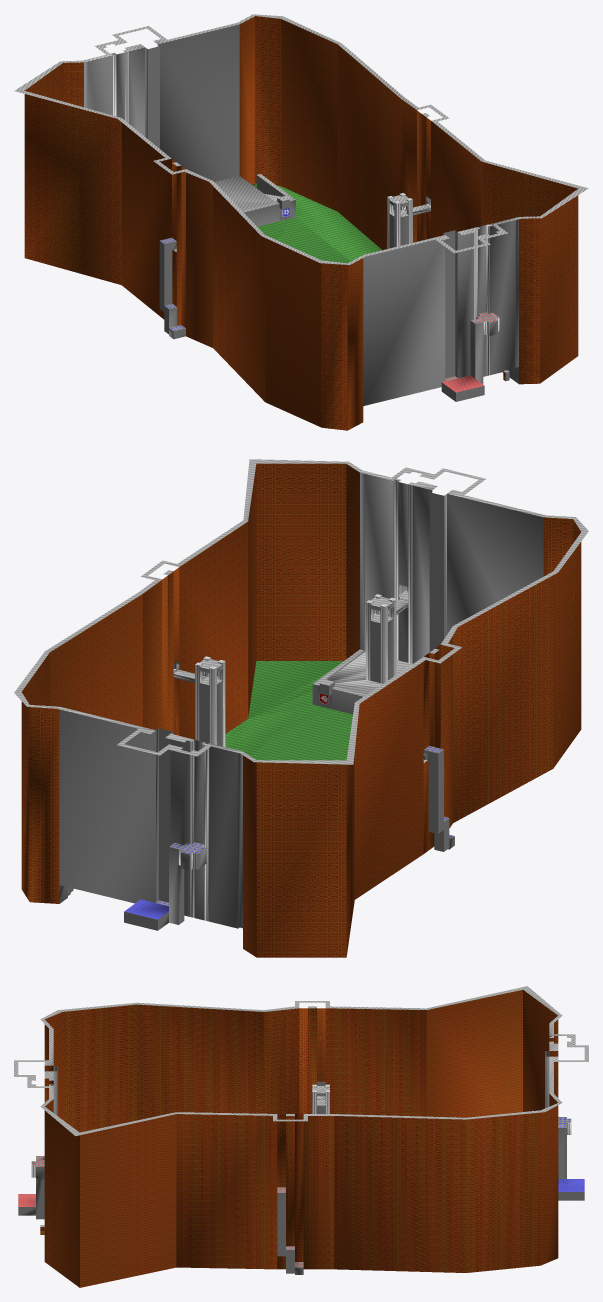
File: F_IronTurret.fbx
The picture shows the model from 3 angles, top to bottom: view 1: azimuth 30°, elevation 25°; view 2: azimuth 150°, elevation 25°; view 3: azimuth 270°, elevation 25°; orthographic projection. The views are drawn at different scales.
Visible parts, largest first — view 1: MAP85; view 2: MAP85; view 3: MAP85.
Part boxes in pixels (left/top/right/bottom): MAP85: left=14, top=14, right=588, bottom=430; MAP85: left=14, top=459, right=588, bottom=957; MAP85: left=14, top=986, right=588, bottom=1287.
Size of the model in its own units: 8100 by 3906 by 13100.
